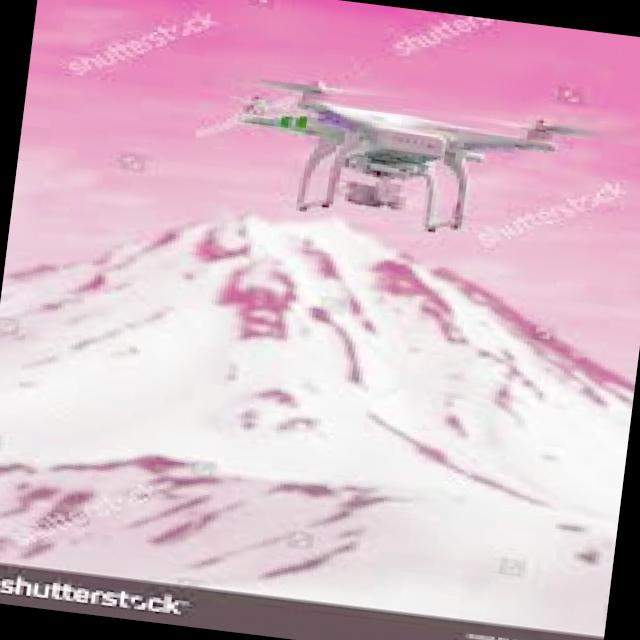drone: (189, 52, 606, 259)
